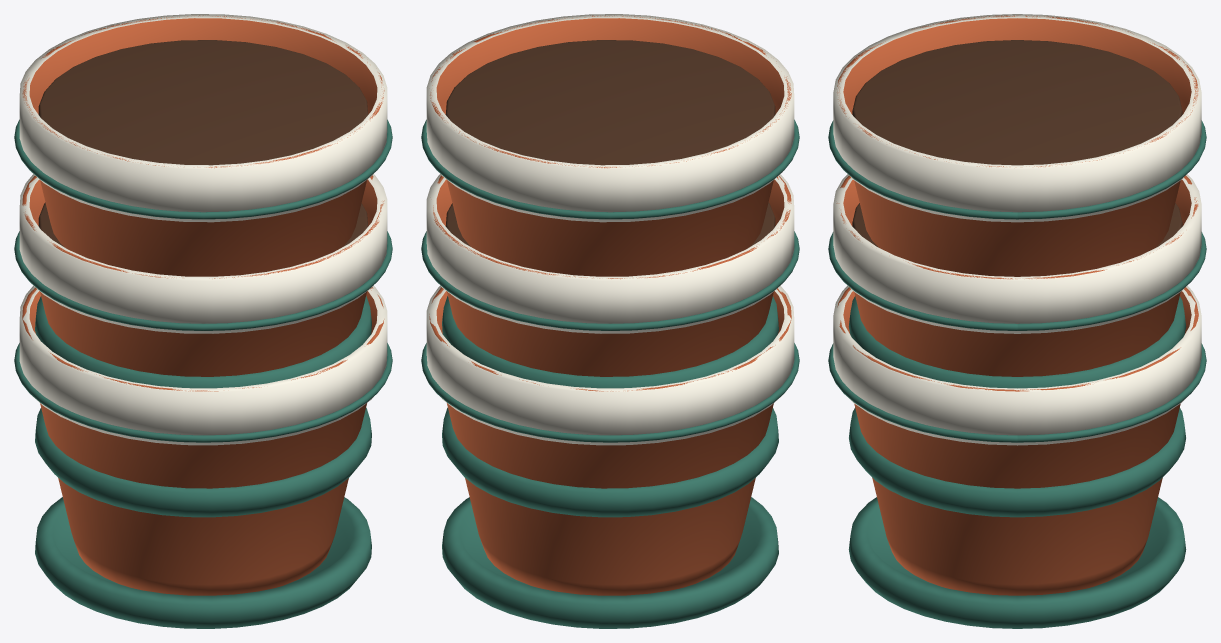
Rendered from pot_stack.glb.
3 renders of one model, left to right at view 1: azimuth 30°, elevation 25°; view 2: azimuth 150°, elevation 25°; view 3: azimuth 270°, elevation 25°, orthographic.
Visible parts, largest first — view 1: Hollow_ceramic_pot, Soil_insert.002, Hollow_ceramic_pot.002, Cream_pot_collar.002, Cream_pot_collar.001, Cream_pot_collar, Saucer, Hollow_ceramic_pot.001, Saucer.001, Saucer.002, Teal_collar_inlay.001, Teal_collar_inlay.002 (+2 smaller); view 2: Hollow_ceramic_pot, Soil_insert.002, Hollow_ceramic_pot.002, Cream_pot_collar.002, Cream_pot_collar.001, Cream_pot_collar, Saucer, Hollow_ceramic_pot.001, Saucer.001, Saucer.002, Teal_collar_inlay.001, Teal_collar_inlay.002 (+2 smaller); view 3: Hollow_ceramic_pot, Soil_insert.002, Hollow_ceramic_pot.002, Cream_pot_collar.002, Cream_pot_collar.001, Cream_pot_collar, Saucer, Hollow_ceramic_pot.001, Saucer.001, Saucer.002, Teal_collar_inlay.002, Teal_collar_inlay.001 (+2 smaller).
Boxes of the visible parts, x1,y1,x2,y2 form: Hollow_ceramic_pot: (22,287,384,595); Soil_insert.002: (38,40,368,165); Hollow_ceramic_pot.002: (22,15,384,276); Cream_pot_collar.002: (19,14,387,222); Cream_pot_collar.001: (19,174,387,333); Cream_pot_collar: (19,285,387,445); Saucer: (35,497,371,628); Hollow_ceramic_pot.001: (22,175,384,376); Saucer.001: (35,407,371,517); Saucer.002: (35,296,371,388); Teal_collar_inlay.001: (14,231,392,330); Teal_collar_inlay.002: (14,119,392,219); Hollow_ceramic_pot: (429,287,791,595); Soil_insert.002: (445,40,775,165); Hollow_ceramic_pot.002: (430,15,791,276); Cream_pot_collar.002: (426,14,794,222); Cream_pot_collar.001: (426,174,794,333); Cream_pot_collar: (426,285,794,445); Saucer: (442,497,778,628); Hollow_ceramic_pot.001: (433,175,791,376); Saucer.001: (442,407,778,517); Saucer.002: (442,296,778,388); Teal_collar_inlay.001: (421,231,799,330); Teal_collar_inlay.002: (421,119,799,219); Hollow_ceramic_pot: (837,287,1198,595); Soil_insert.002: (852,40,1182,165); Hollow_ceramic_pot.002: (837,15,1198,276); Cream_pot_collar.002: (833,14,1201,222); Cream_pot_collar.001: (833,174,1201,333); Cream_pot_collar: (833,285,1201,445); Saucer: (848,497,1186,628); Hollow_ceramic_pot.001: (836,175,1198,376); Saucer.001: (849,407,1185,517); Saucer.002: (848,296,1186,388); Teal_collar_inlay.002: (828,120,1206,219); Teal_collar_inlay.001: (828,232,1206,330).
Bounding box in the file's own units: 0.292 × 0.4 × 0.292.
